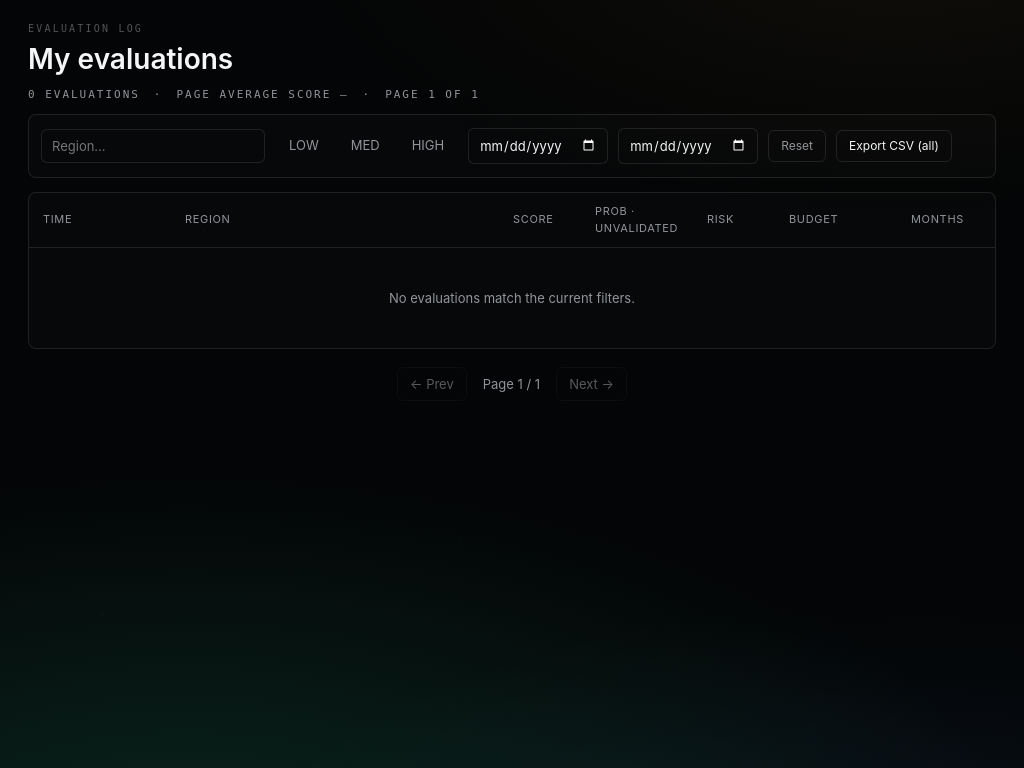
Test: Export CSV › says a 403 is the role, and downloads nothing
Click the button "Export CSV (all)" at [894, 146], box left=836, top=130, right=952, bottom=162
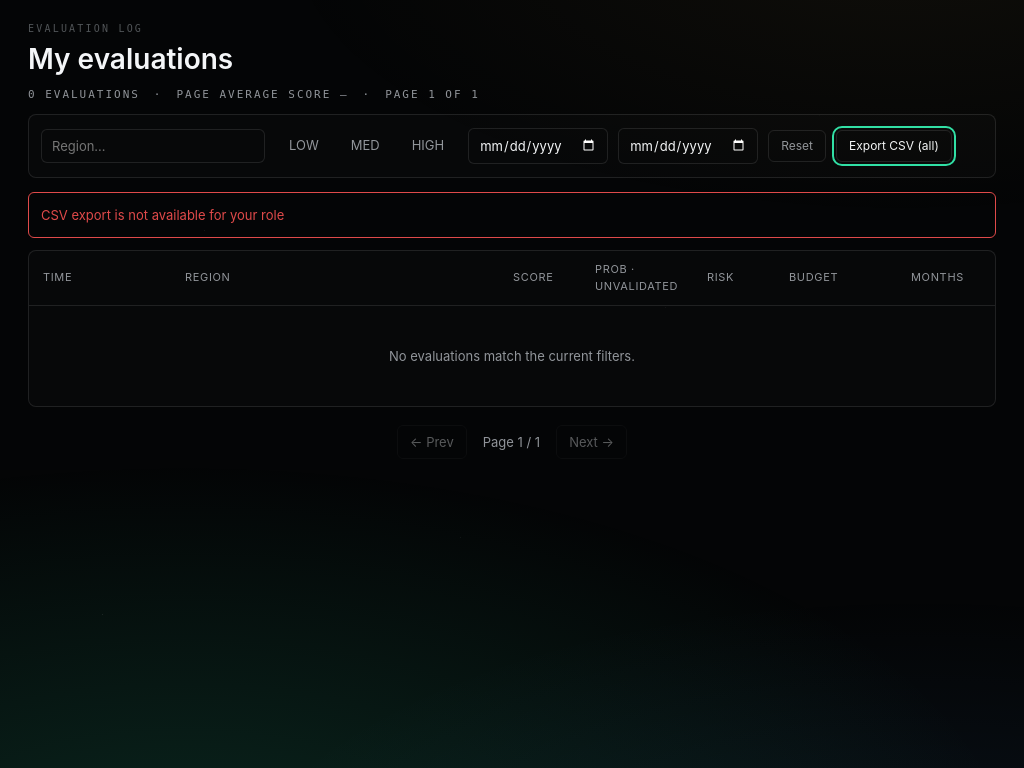
Check: the text with class "hist-error" shows "not available for your role", box left=41, top=206, right=284, bottom=222
